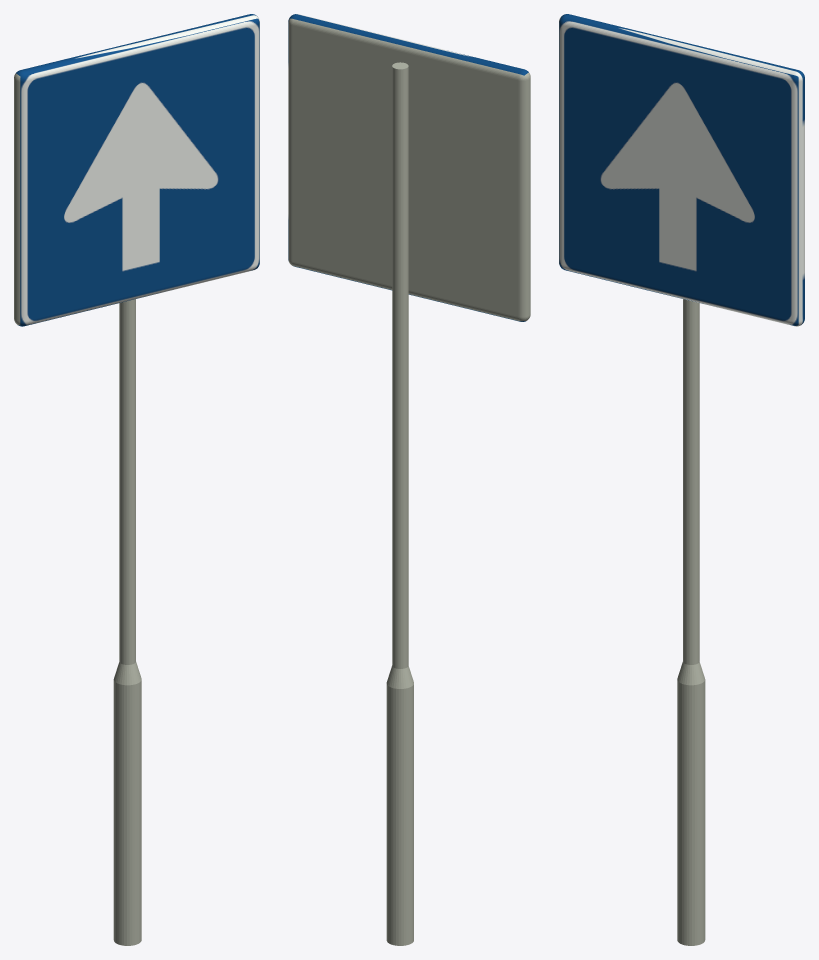
File: oneway.fbx
3 views of the same model, side by side, from view 1: azimuth 30°, elevation 25°; view 2: azimuth 150°, elevation 25°; view 3: azimuth 330°, elevation 25° (orthographic).
Parts seen in each view (by area): view 1: Cube, Cylinder; view 2: Cube, Cylinder; view 3: Cube, Cylinder.
Part boxes in pixels (left/top/right/bottom): Cube: left=14, top=14, right=259, bottom=326; Cylinder: left=113, top=299, right=141, bottom=945; Cube: left=288, top=14, right=530, bottom=321; Cylinder: left=386, top=62, right=413, bottom=945; Cube: left=559, top=14, right=804, bottom=326; Cylinder: left=677, top=299, right=705, bottom=945.
Size of the model in its own units: 101 by 357 by 14.61.
